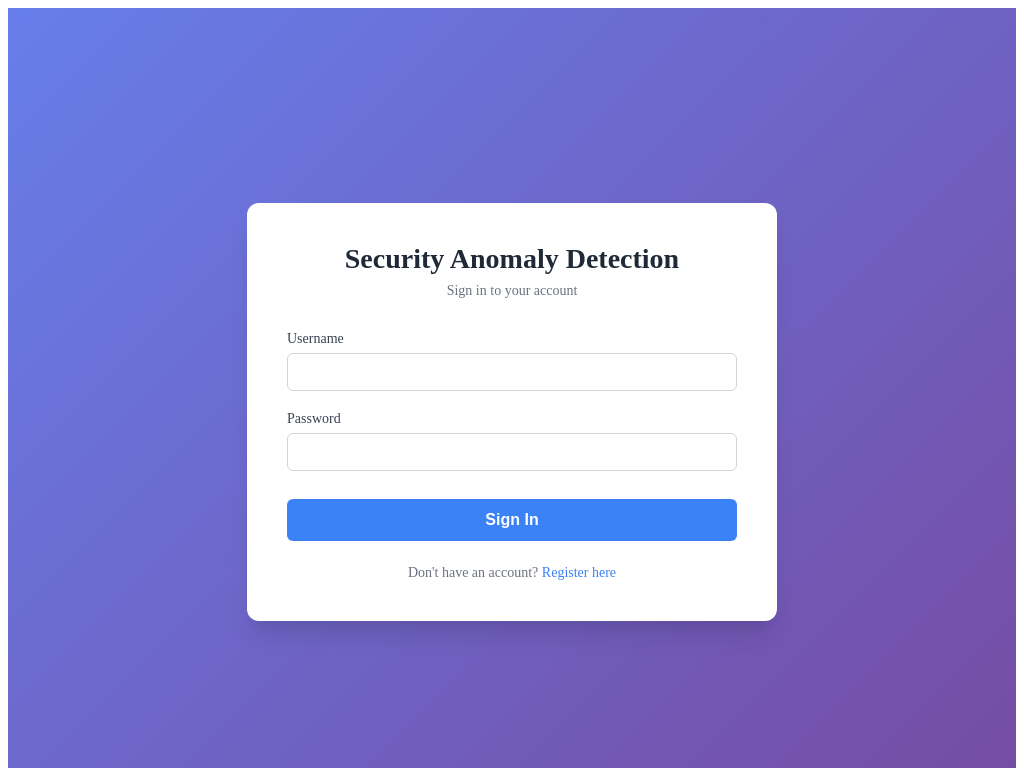
Test: Login Component › should disable form inputs and button while loading
The width and height of the screenshot is (1024, 768).
Type "testuser" into the field labelled "Username" at (512, 372), box [287,353,737,391]
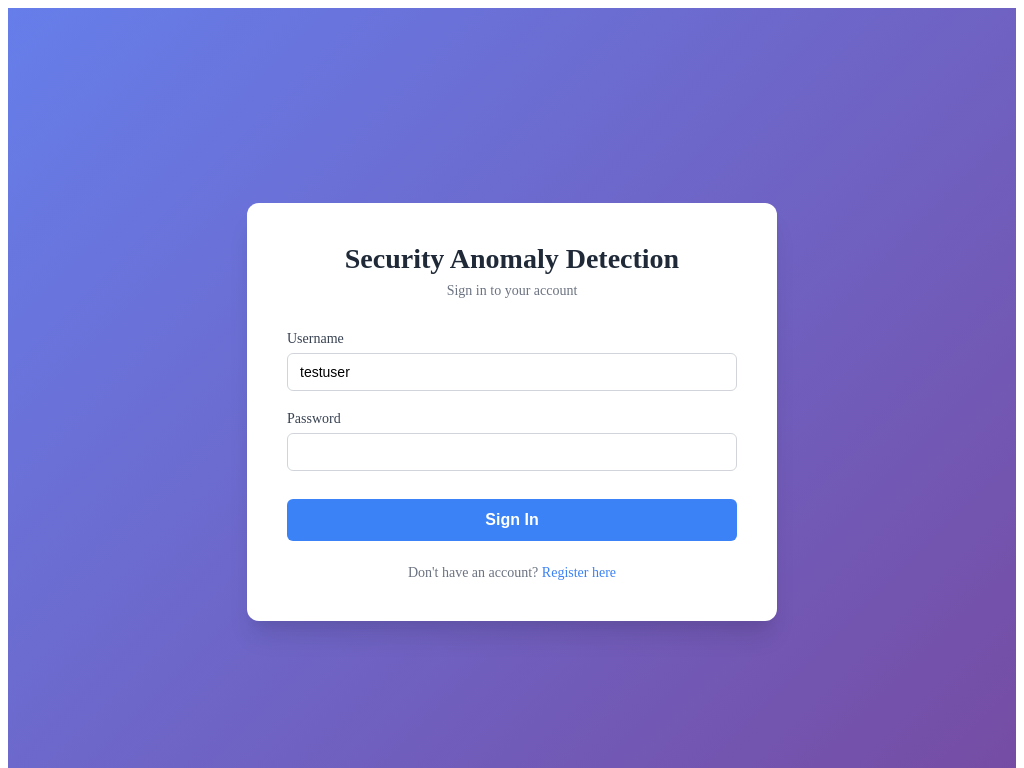
Type "password123" into the password field labelled "Password" at (512, 452), box [287,433,737,471]
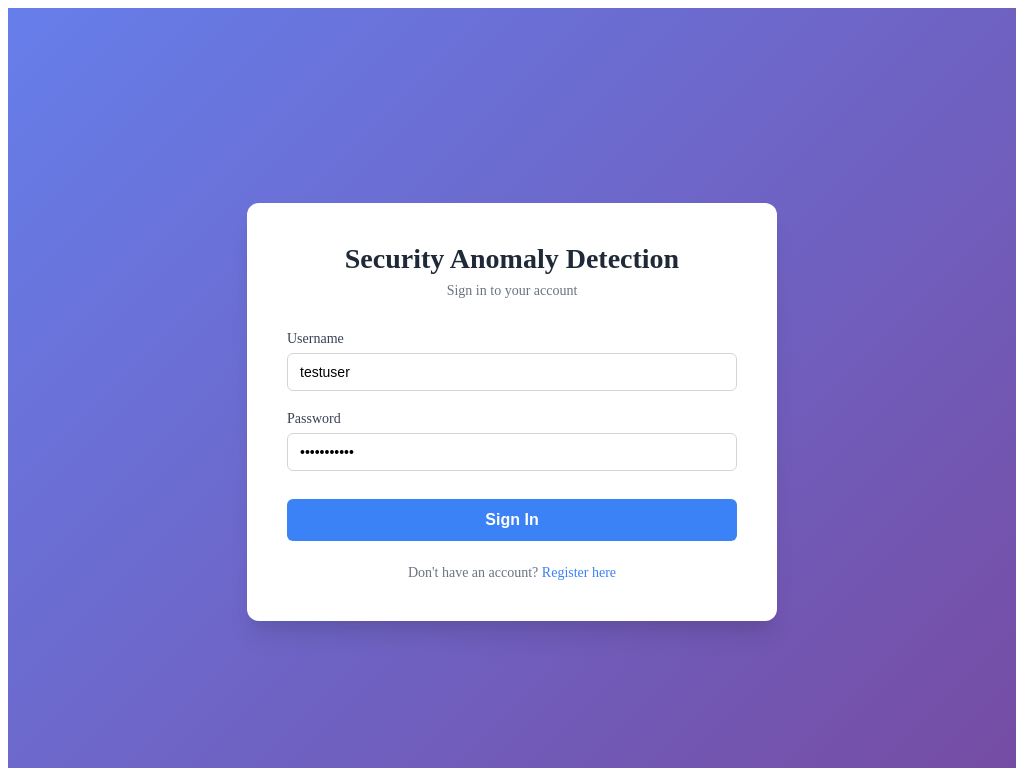
Click the button "Sign In" at (512, 520), box [287,499,737,541]
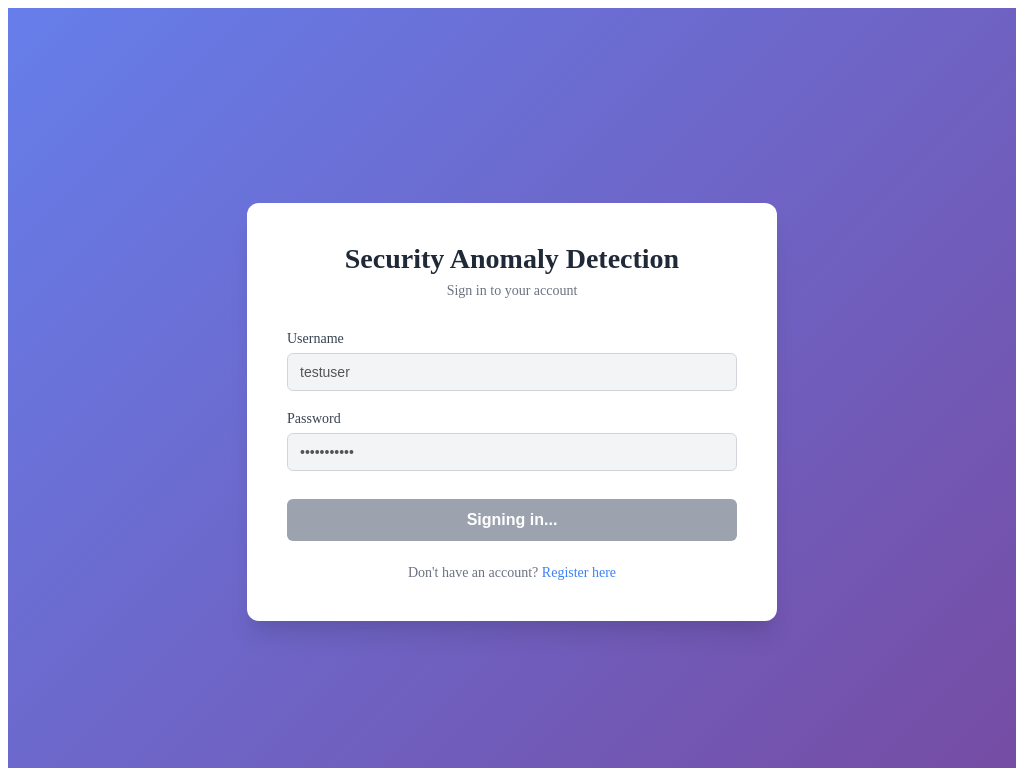
Expected: the field labelled "Username" is disabled, [287,353,737,391]
Expected: the password field labelled "Password" is disabled, [287,433,737,471]
Expected: the button "Signing in..." is disabled, [287,499,737,541]
